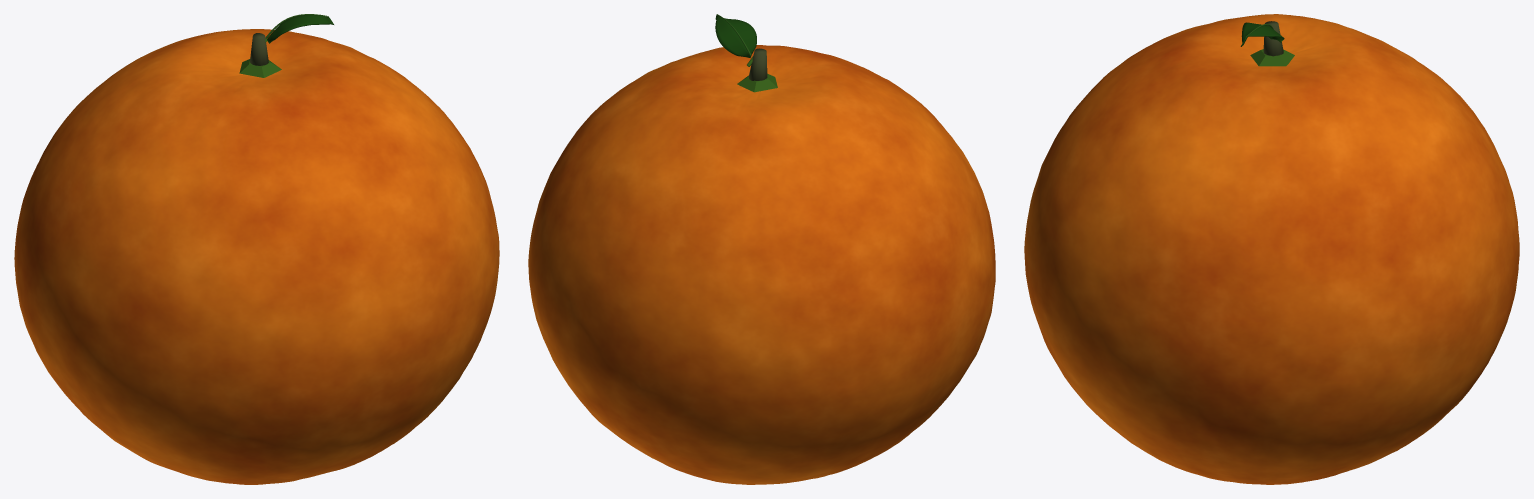
The model's file is valencia-orange.glb.
3 renders of one model, left to right at view 1: azimuth 30°, elevation 25°; view 2: azimuth 150°, elevation 25°; view 3: azimuth 270°, elevation 25°, orthographic. The views are drawn at different scales.
Visible parts, largest first — view 1: Orange, Leaf, Stem; view 2: Orange, Leaf, Stem; view 3: Orange, Calyx.
Part boxes in pixels (x1,y1,x2,y2): Orange: [14, 29, 499, 484]; Leaf: [267, 15, 333, 43]; Stem: [250, 33, 268, 65]; Orange: [528, 45, 995, 484]; Leaf: [715, 15, 756, 57]; Stem: [748, 48, 767, 80]; Orange: [1024, 14, 1519, 484]; Calyx: [1250, 49, 1294, 66].
Bounding box in the file's own units: 2 × 2.01 × 1.99.
Materials: 8 (1 with a texture image).
